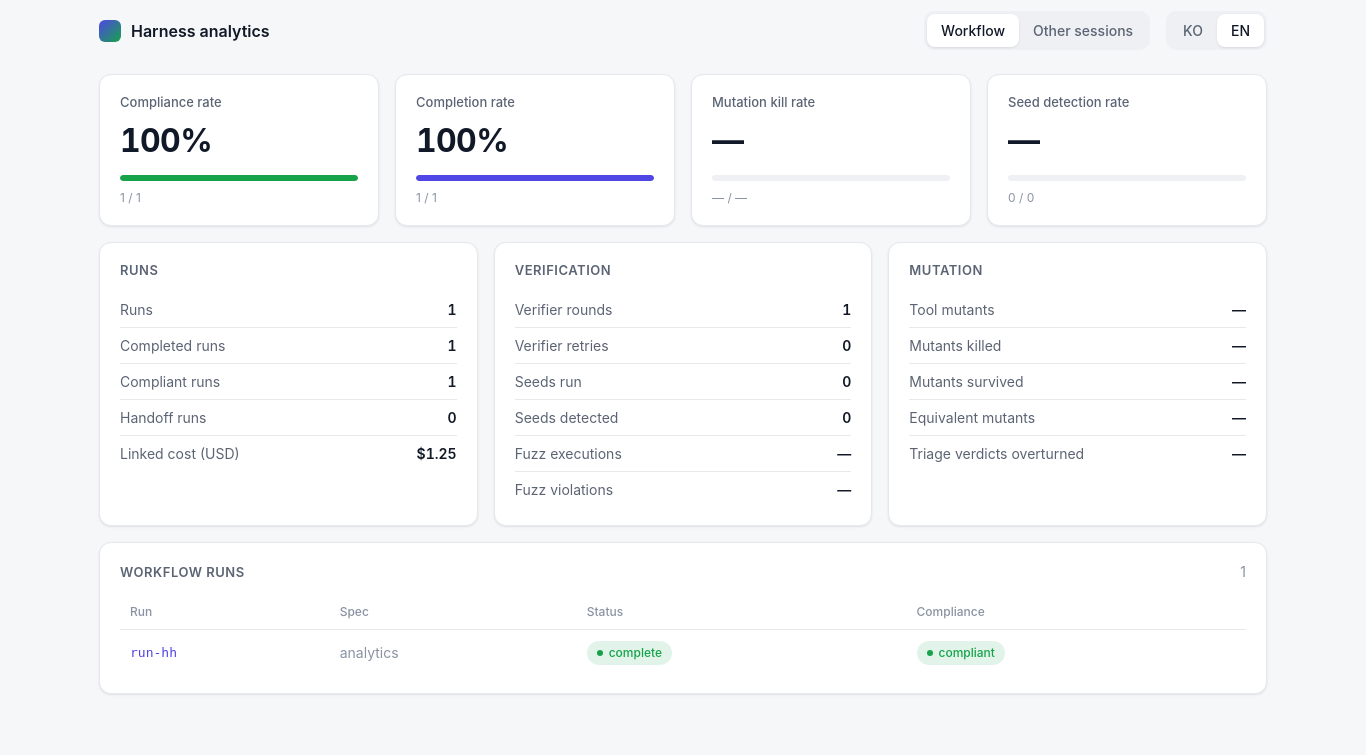
Scenario: spec isolation-telemetry O9 harness hacking dashboard › U4 run detail with zero candidates shows the empty state
What coordinates should you click on to do the following:
click the link "run-hh"
I would click on:
 (154, 653)
Its box is top-left (130, 645), bottom-right (177, 660).
(page scrolled)
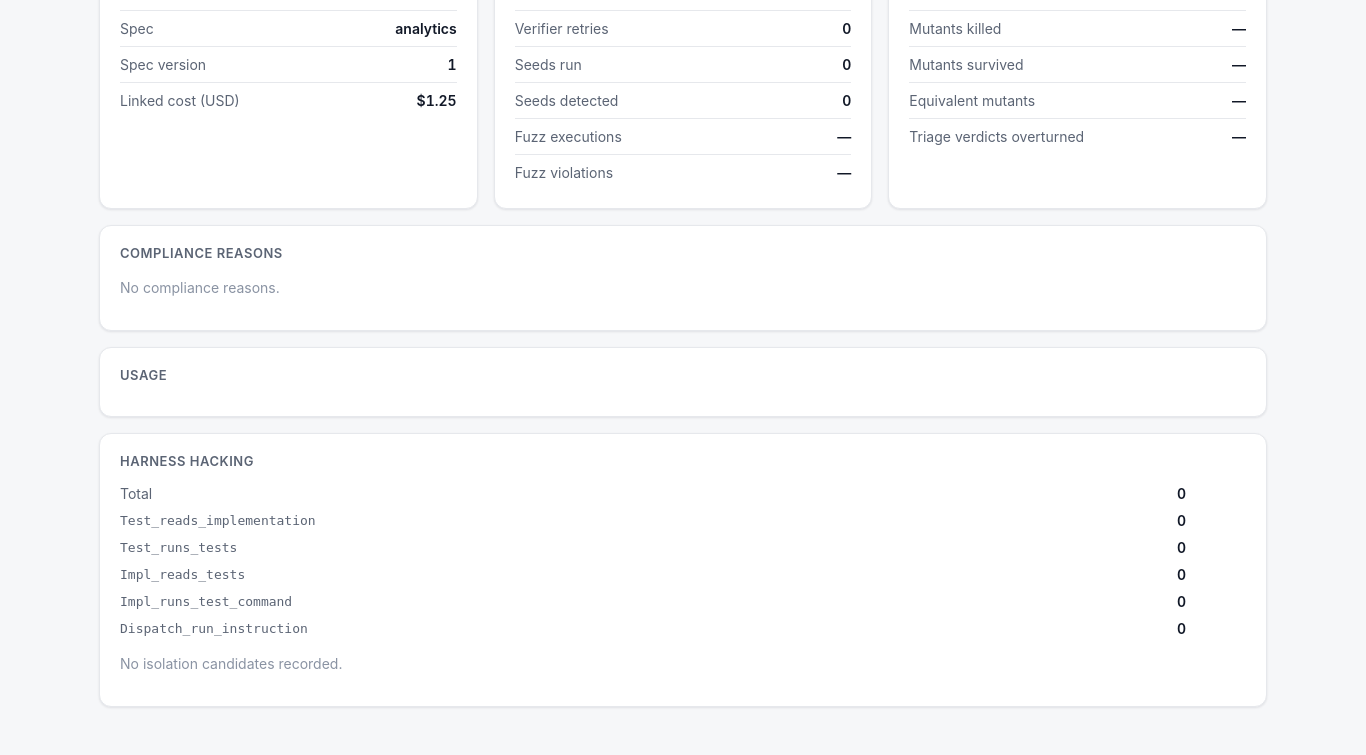
Expected: the text "No isolation candidates recorded." is shown, top-left (120, 655), bottom-right (342, 672)
